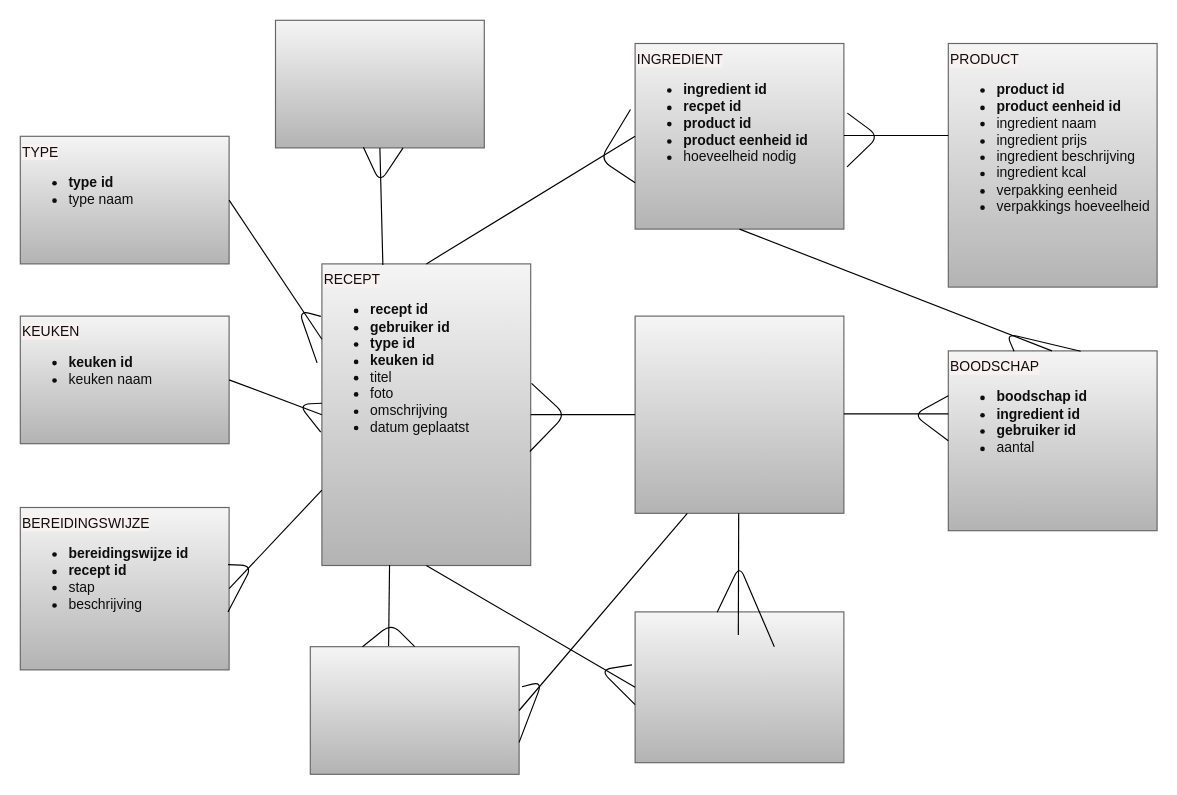
Some shapes in this 1177 by 795 pixel diagram are drawn without their labels. Each missing label, with the box of its shape:
FAVORIET favoriet id recept id gebruiker id: (309, 646, 519, 774)
GEBRUIKER gebruiker id naam gebruiker foto gebruiker email wachtwoord: (634, 315, 844, 513)
OPMERKING opmerking id gebruiker id recept id opmerking gebruiker: (634, 611, 844, 763)
STERREN sterren id recept id beoordeling: (274, 19, 484, 148)
